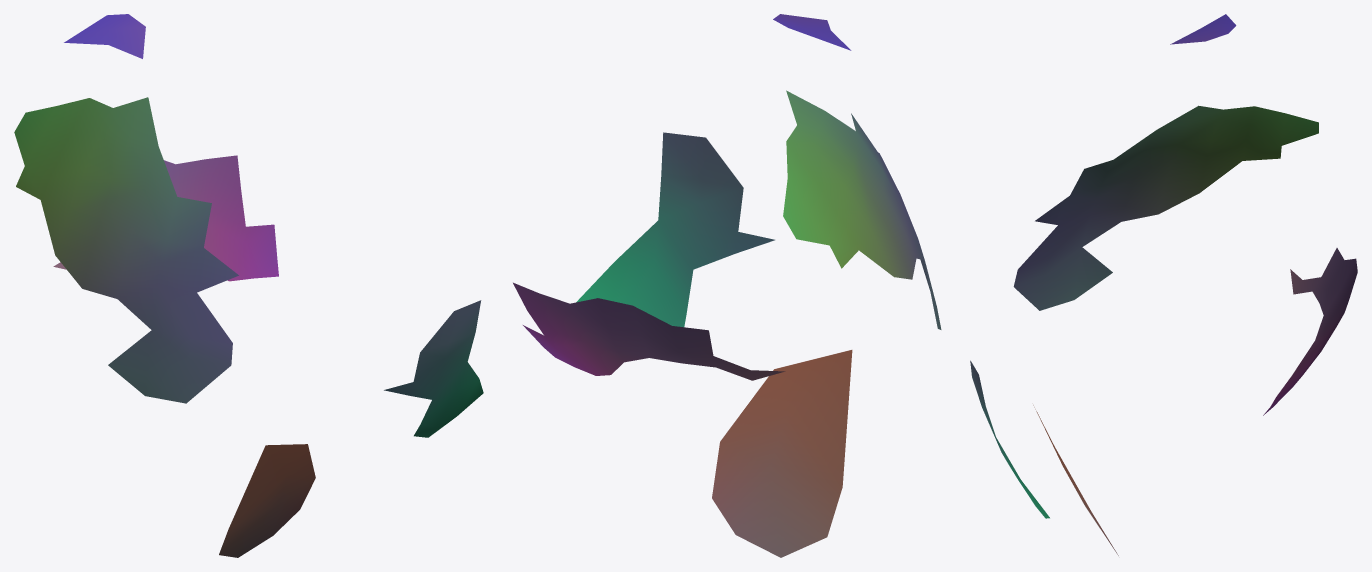
3 views of the same model, side by side, from view 1: azimuth 30°, elevation 25°; view 2: azimuth 150°, elevation 25°; view 3: azimuth 270°, elevation 25° (orthographic). The views are drawn at different scales.
Parts seen in each view (by area): view 1: starcloud70; view 2: starcloud70; view 3: starcloud70.
Boxes of the visible parts, x1,y1,x2,y2 form: starcloud70: (14,14,483,557); starcloud70: (513,14,941,557); starcloud70: (970,14,1357,555).
Bounding box in the file's own units: 0.3573 × 0.5 × 0.3554.
